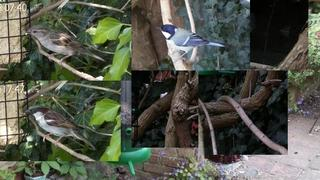great tit: (155, 24, 226, 64)
sparrow: (24, 24, 107, 69), (24, 105, 97, 150)
